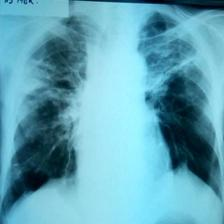tuberculosis: (1, 5, 224, 224)
